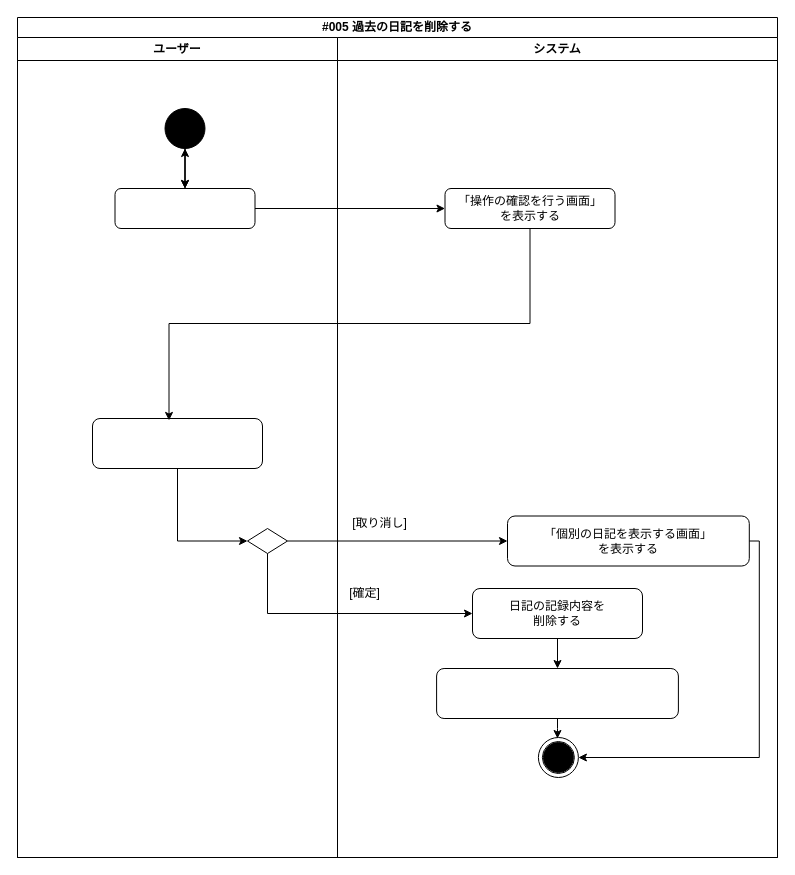
This 795x875 diagram has some shape labels left out. The centre of each missing label's shape, as x and y in pixels:
"「日記の削除」 を選択する" belongs at point (184, 208).
"「過去の日記を表示する画面」 を表示する" belongs at point (557, 693).
"記録の削除について， 「取り消し」か「確定」かを 選択する" belongs at point (177, 443).
